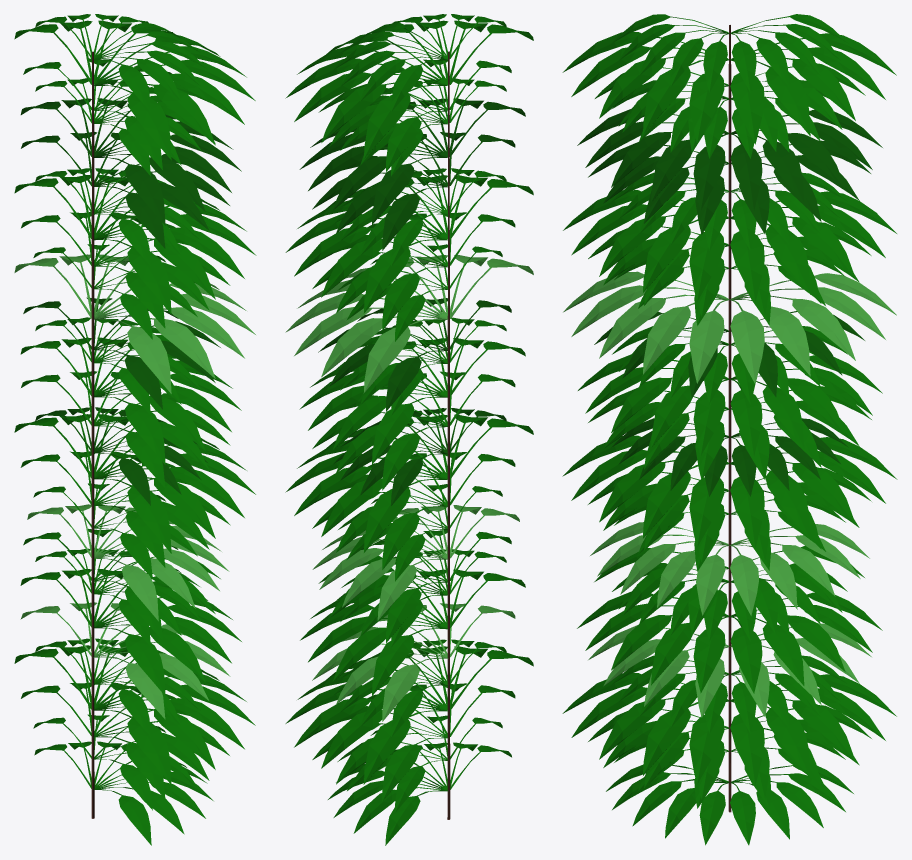
The model's file is small_plant_half_extend.fbx.
3 views of the same model, side by side, from view 1: azimuth 30°, elevation 25°; view 2: azimuth 150°, elevation 25°; view 3: azimuth 270°, elevation 25° (orthographic). The views are drawn at different scales.
Parts seen in each view (by area): view 1: Circle.088; view 2: Circle.088; view 3: Circle.088.
Part boxes in pixels (<box>): Circle.088: <box>14,14,256,845</box>; Circle.088: <box>285,14,533,845</box>; Circle.088: <box>562,14,897,845</box>.
Bounding box in the file's own units: 31.18 × 148 × 56.67.
